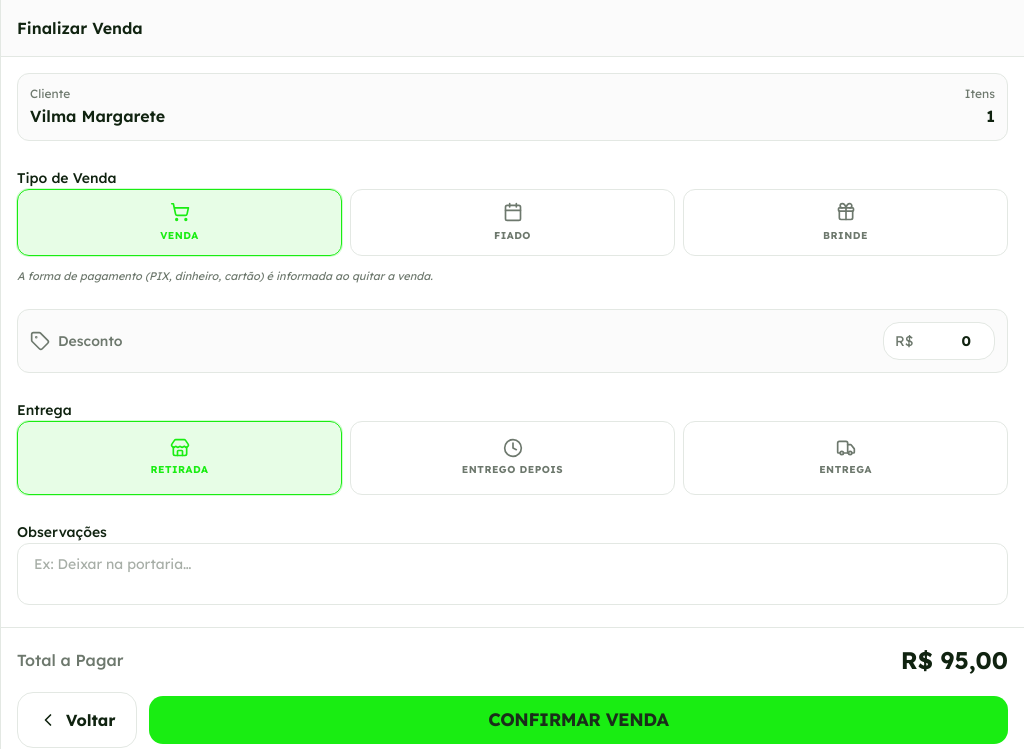
Scenario: CheckoutSidebar — entrega com data prevista exige a forma de pagamento › rótulo da instrução para o entregador
Step 1. Click the button "Entrega" → (846, 458), box [683, 420, 1008, 494]
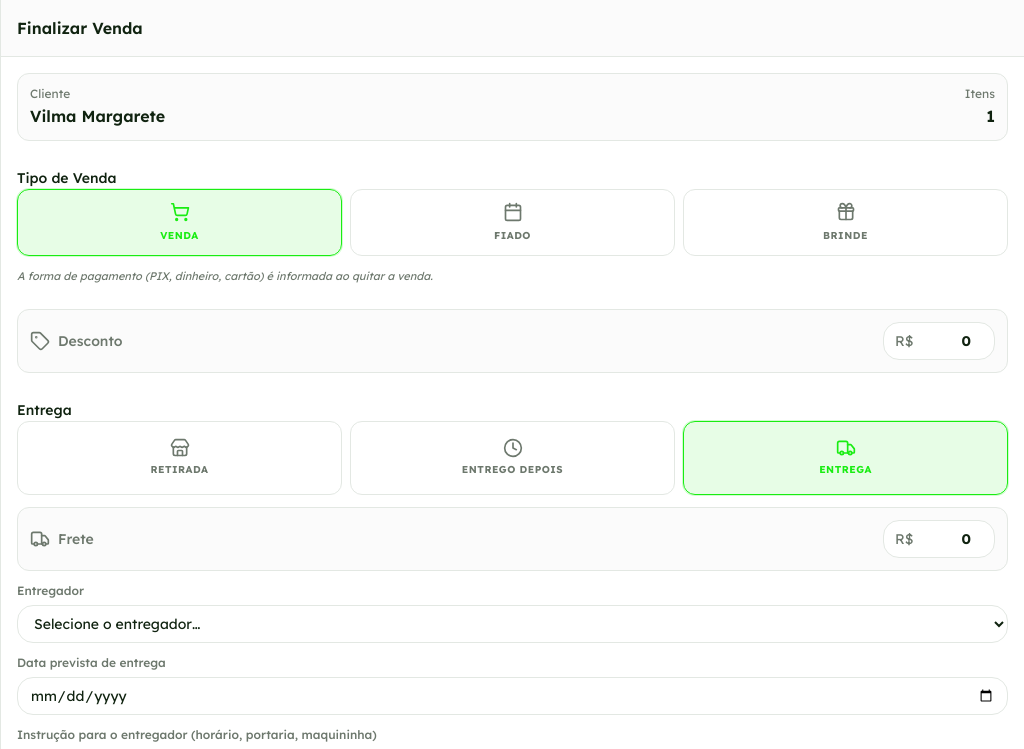
Check: the text "Instrução para o entregador (horário, portaria, maquininha)" is shown, box [17, 726, 377, 742]
